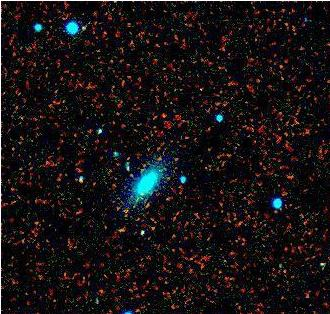star: (149, 101, 179, 131)
